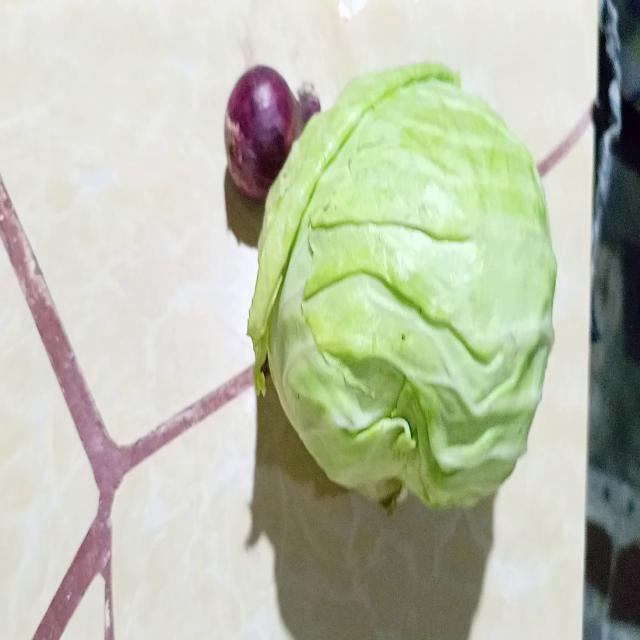cabbage: (246, 64, 557, 512)
onion: (224, 65, 320, 200)
